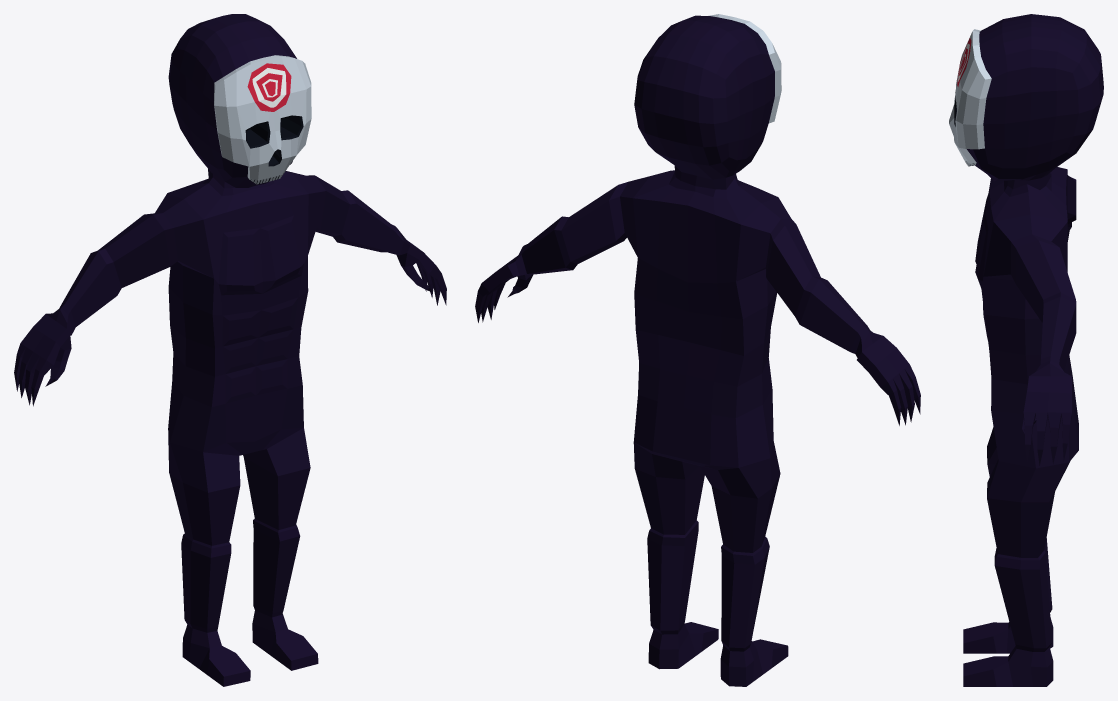
Rendered from Carniçal.fbx.
The picture shows the model from 3 angles, left to right: view 1: azimuth 30°, elevation 25°; view 2: azimuth 150°, elevation 25°; view 3: azimuth 270°, elevation 25°; orthographic projection. The views are drawn at different scales.
Parts seen in each view (by area): view 1: Cube; view 2: Cube; view 3: Cube.
Boxes of the visible parts, bbox=[...] form: Cube: bbox=[14, 14, 446, 686]; Cube: bbox=[475, 14, 920, 686]; Cube: bbox=[949, 14, 1103, 686].
Size of the model in its own units: 1.31 by 1.89 by 0.4143.
